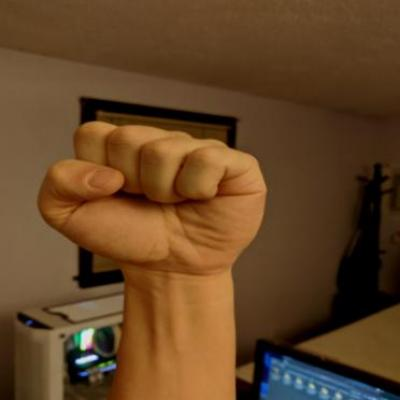hand: (31, 116, 275, 278)
